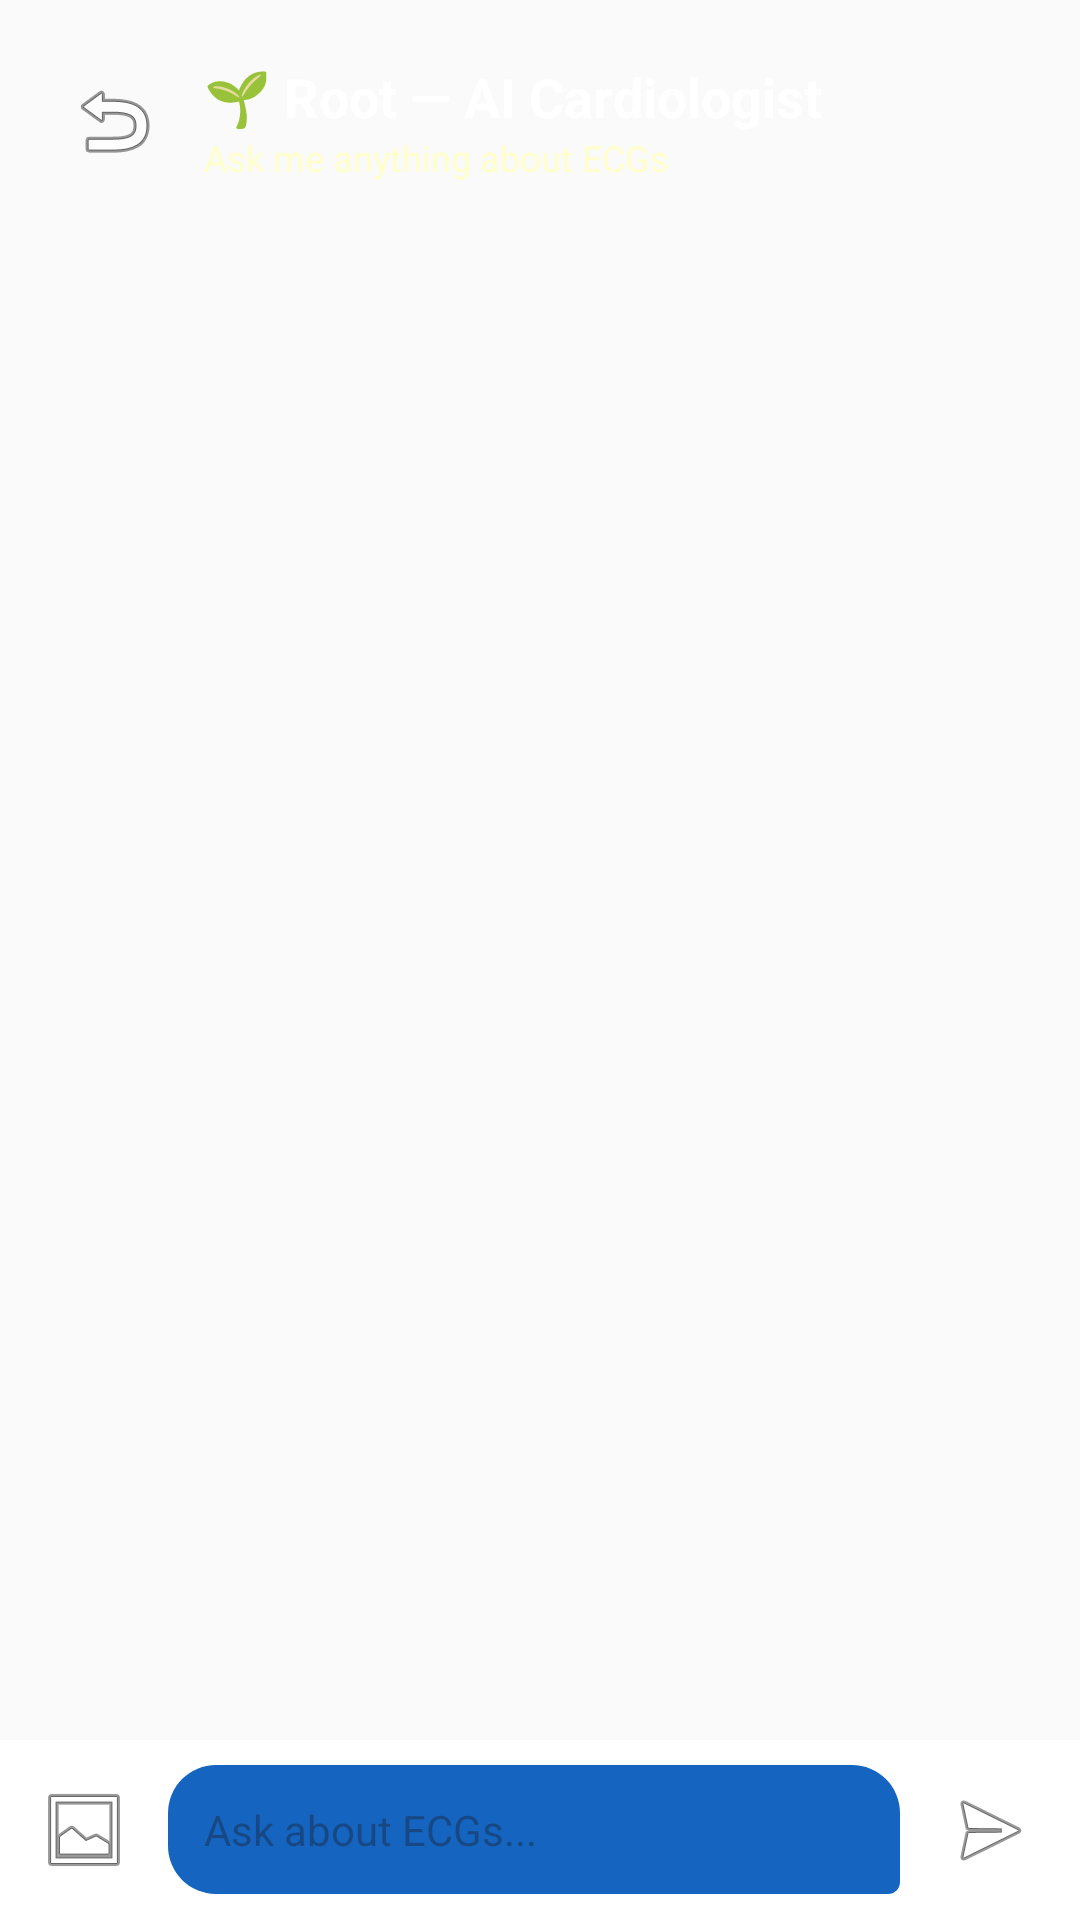

Icon bounding boxes for this 1080*1920 phone screenshot, format (x1, y1, x2, y2):
Back: (81, 90, 150, 153)
Send: (960, 1800, 1022, 1861)
